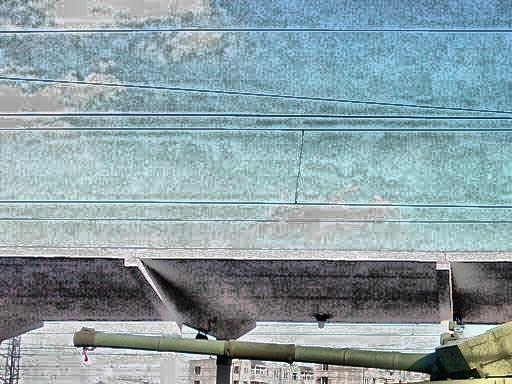tanks: (75, 322, 512, 384)
